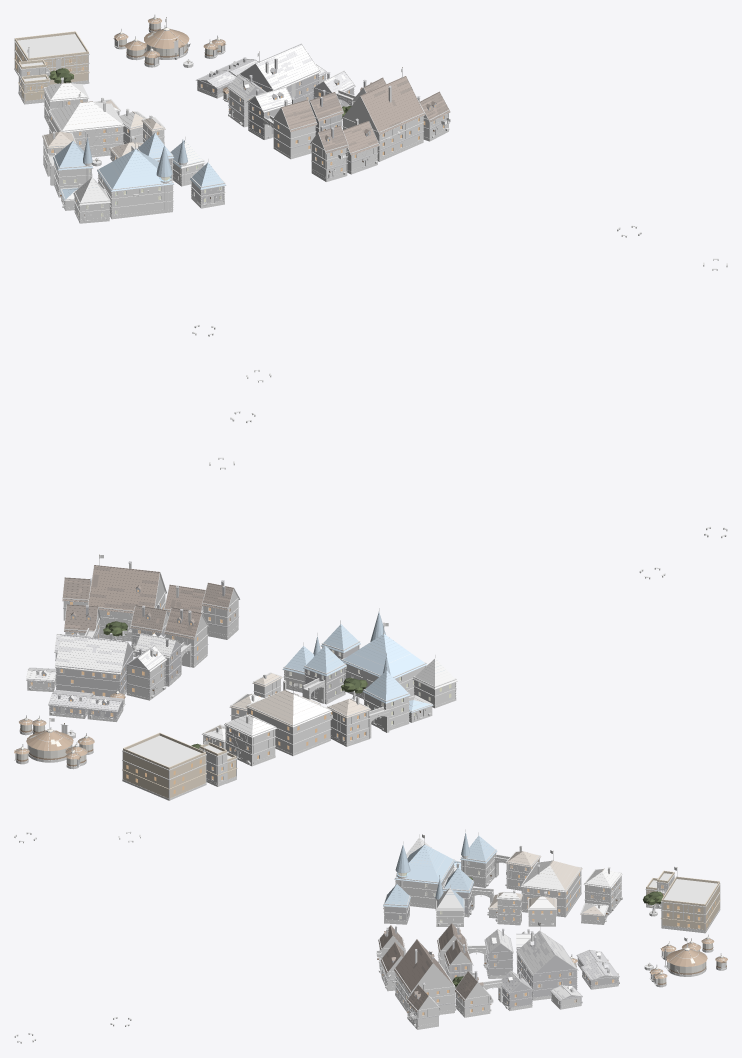
File: bld_razas.glb
3 renders of one model, top to bottom at view 1: azimuth 30°, elevation 25°; view 2: azimuth 150°, elevation 25°; view 3: azimuth 270°, elevation 25°, orthographic. The views are drawn at different scales.
Parts seen in each view (by area): view 1: CasaRaza_03_Roof, CasaRaza_04_Roof, CasaRaza_04_Body, CasaRaza_03_Body, CasaRaza_01_Roof, CasaRaza_02_Roof, CasaRaza_06_Roof, RAZ_B03_Casa_01_Body, CasaRaza_02_Body, RAZ_B03_Casa_04_Body, CasaRaza_06_Body, CasaRaza_05_Roof (+16 smaller); view 2: CasaRaza_03_Roof, CasaRaza_06_Body, CasaRaza_01_Roof, CasaRaza_04_Roof, CasaRaza_02_Body, CasaRaza_01_Body, CasaRaza_02_Roof, CasaRaza_06_Roof, RAZ_B02_Casa_01_Body, RAZ_B01_Casa_05_Body, RAZ_B02_Casa_03_Body, RAZ_B03_Casa_04_Body (+21 smaller); view 3: CasaRaza_04_Roof, CasaRaza_06_Body, CasaRaza_01_Body, CasaRaza_03_Body, CasaRaza_02_Roof, CasaRaza_03_Roof, CasaRaza_01_Roof, CasaRaza_06_Roof, CasaRaza_02_Body, CasaRaza_04_Body, RAZ_B03_Casa_03_Body, RAZ_B02_Casa_01_Body (+28 smaller).
Part boxes in pixels (x1,y1,x2,y2): CasaRaza_03_Roof: [341, 76, 424, 135]; CasaRaza_04_Roof: [97, 142, 174, 192]; CasaRaza_04_Body: [97, 161, 173, 219]; CasaRaza_03_Body: [342, 97, 424, 161]; CasaRaza_01_Roof: [236, 43, 320, 90]; CasaRaza_02_Roof: [48, 101, 124, 132]; CasaRaza_06_Roof: [14, 31, 88, 60]; RAZ_B03_Casa_01_Body: [273, 109, 316, 159]; CasaRaza_02_Body: [49, 103, 123, 157]; RAZ_B03_Casa_04_Body: [311, 134, 348, 181]; CasaRaza_06_Body: [14, 40, 89, 86]; CasaRaza_05_Roof: [125, 25, 189, 57]; CasaRaza_03_Roof: [88, 561, 166, 613]; CasaRaza_06_Body: [122, 750, 206, 800]; CasaRaza_01_Roof: [54, 633, 134, 674]; CasaRaza_04_Roof: [341, 608, 427, 678]; CasaRaza_02_Body: [246, 690, 332, 755]; CasaRaza_01_Body: [55, 644, 133, 697]; CasaRaza_02_Roof: [246, 680, 332, 727]; CasaRaza_06_Roof: [123, 732, 205, 769]; RAZ_B02_Casa_01_Body: [225, 714, 275, 766]; RAZ_B01_Casa_05_Body: [126, 652, 165, 700]; RAZ_B02_Casa_03_Body: [327, 698, 370, 746]; RAZ_B03_Casa_04_Body: [202, 590, 239, 639]; CasaRaza_04_Roof: [394, 841, 455, 884]; CasaRaza_06_Body: [661, 883, 720, 933]; CasaRaza_01_Body: [517, 945, 577, 1000]; CasaRaza_03_Body: [394, 963, 455, 1014]; CasaRaza_02_Roof: [520, 860, 582, 892]; CasaRaza_03_Roof: [394, 939, 456, 993]; CasaRaza_01_Roof: [516, 930, 578, 975]; CasaRaza_06_Roof: [661, 876, 719, 906]; CasaRaza_02_Body: [521, 862, 581, 917]; CasaRaza_04_Body: [395, 854, 454, 908]; RAZ_B03_Casa_03_Body: [455, 983, 493, 1017]; RAZ_B02_Casa_01_Body: [584, 869, 621, 913].
Size of what is drawn, in the model's own units: 175 by 24.25 by 251.
34 materials, 29 textured.
